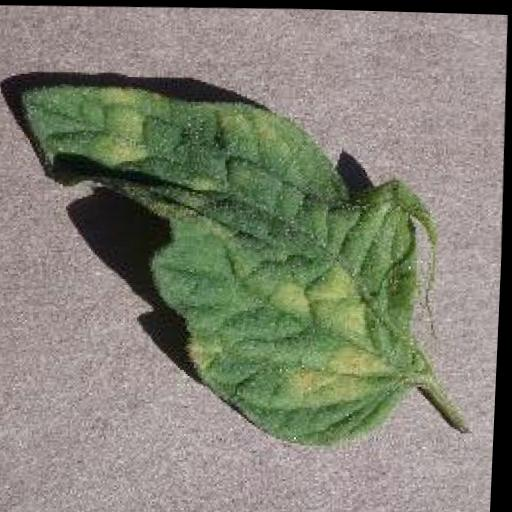Leaf Mold: (7, 77, 424, 445)
